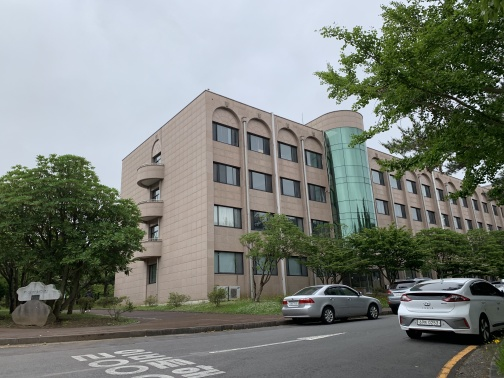Natural Science2: (114, 94, 384, 301)
